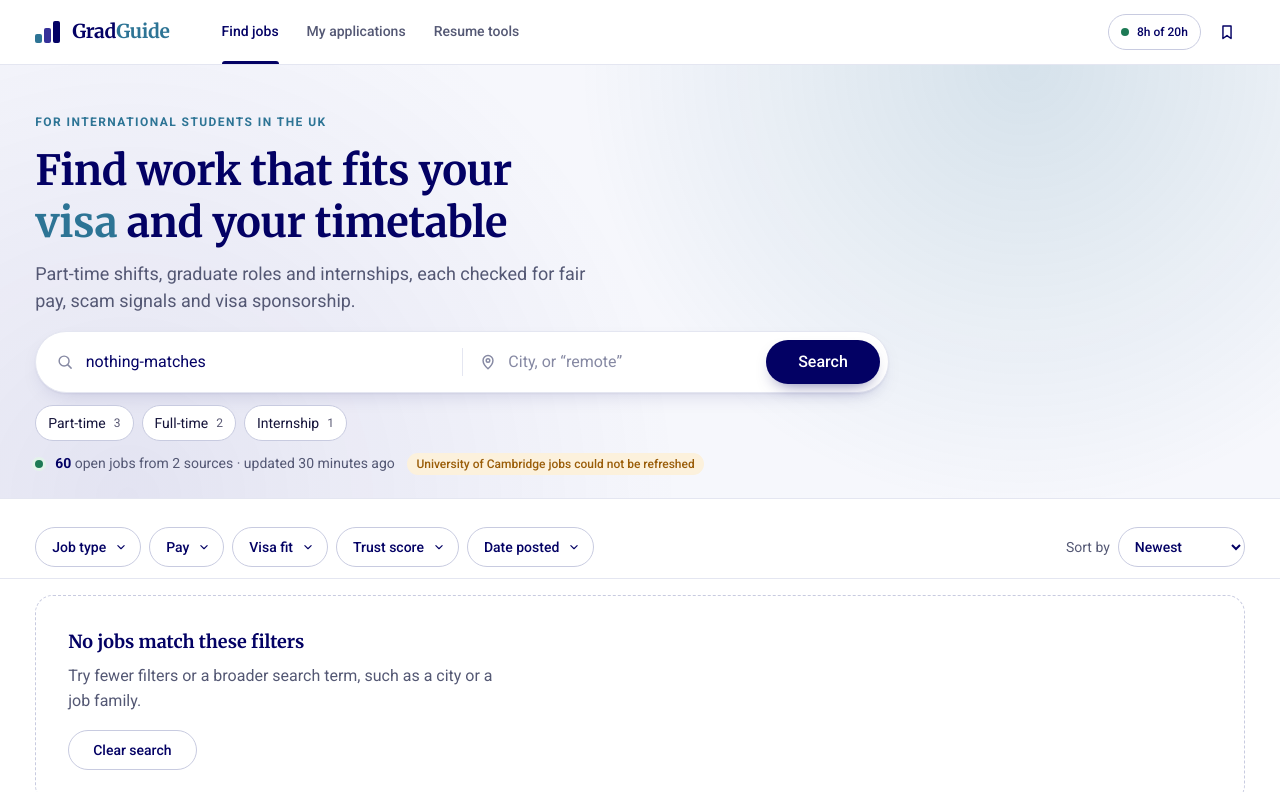
it: JobsPage › clearing filters does not bring back the previous search
Click the button "Clear search".
click(132, 750)  # box [68, 730, 196, 770]
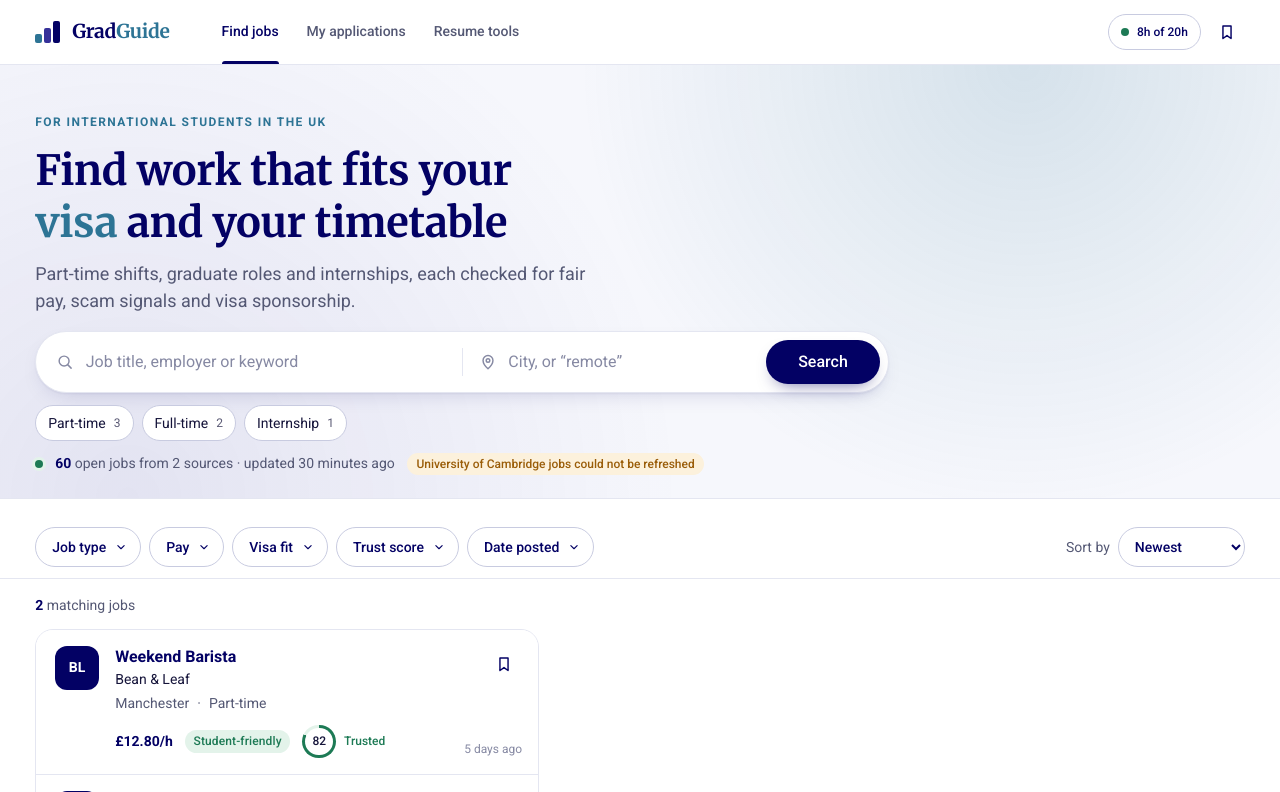
Expected: the link "Weekend Barista" is shown, [115, 647, 236, 666]
